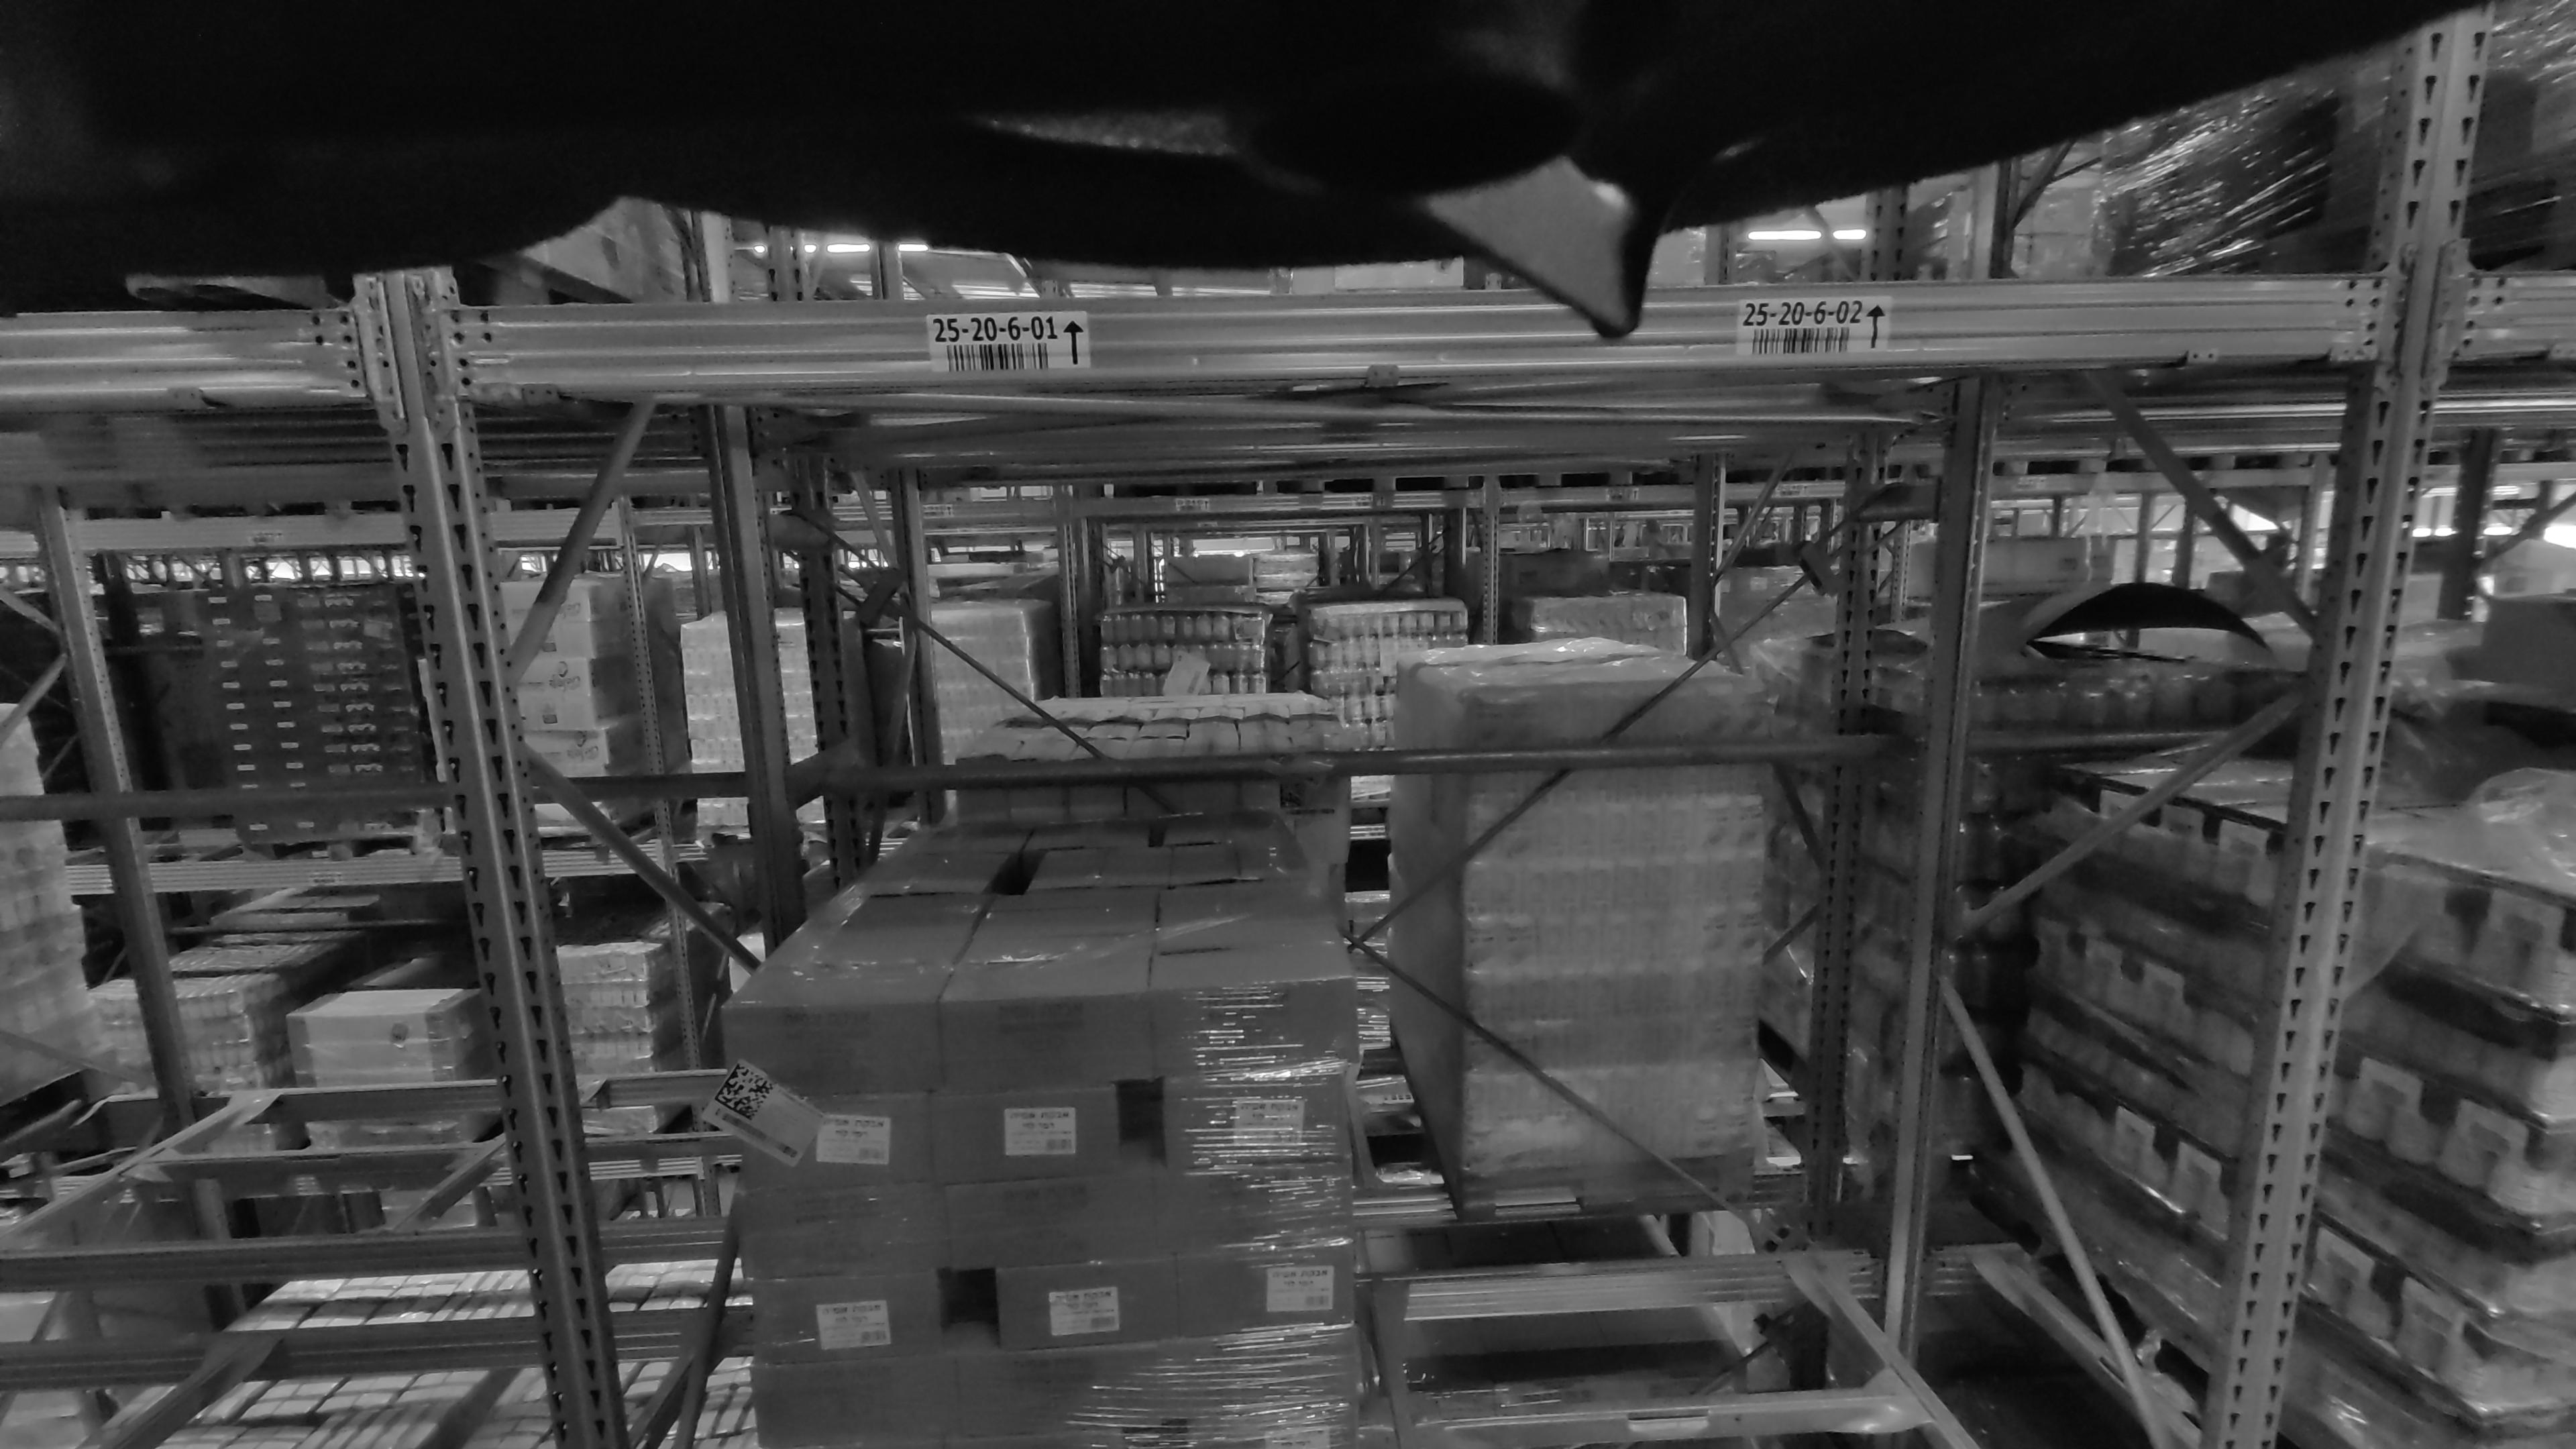empty-shelf: (1438, 405, 2008, 1447), (0, 421, 421, 1438), (60, 524, 387, 1228), (600, 502, 736, 1217)
